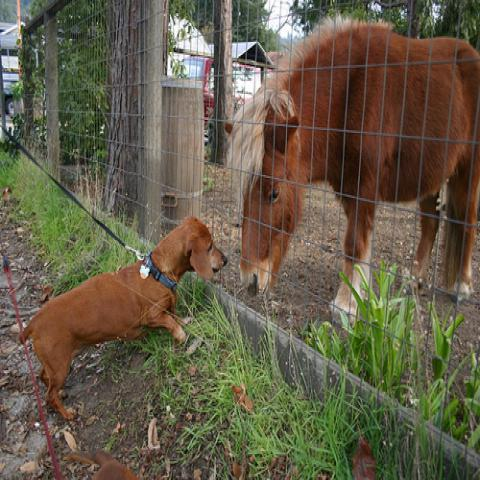truck: (180, 55, 261, 129)
